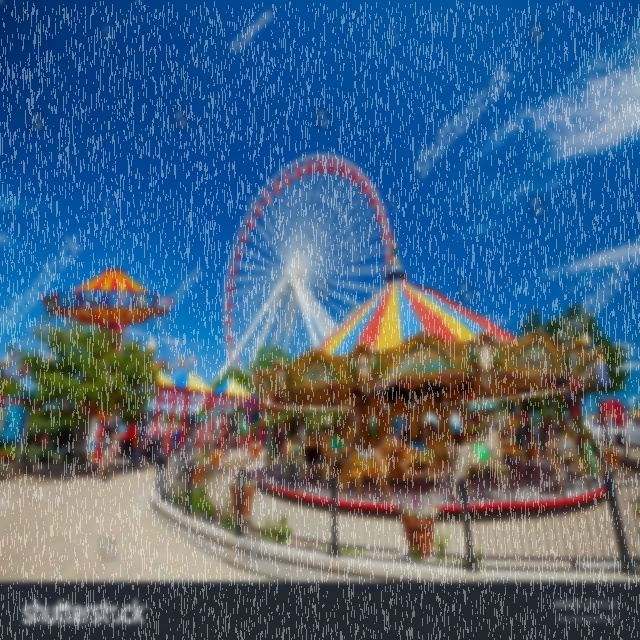pessoa: (269, 410, 355, 458), (0, 344, 60, 381), (95, 410, 121, 486), (532, 416, 560, 442), (402, 424, 434, 442), (124, 419, 137, 459), (452, 428, 482, 444), (166, 416, 176, 462), (220, 419, 232, 456), (156, 356, 178, 375), (196, 426, 210, 454), (273, 422, 283, 459), (518, 404, 532, 430), (141, 414, 149, 459), (129, 431, 140, 461), (220, 422, 230, 455), (229, 418, 237, 451), (173, 426, 182, 455), (281, 418, 289, 448), (242, 419, 250, 448), (178, 354, 189, 371), (188, 353, 200, 367), (420, 332, 428, 344), (538, 331, 544, 338)
